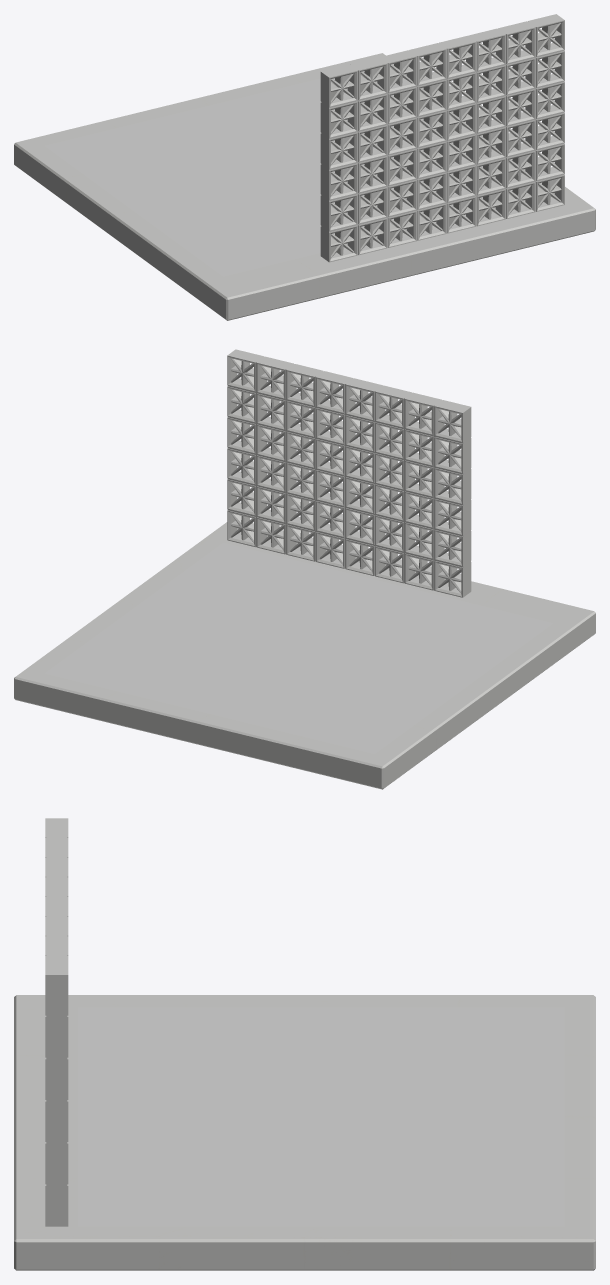
Rendered from PlatformLargeOscY.fbx.
The picture shows the model from 3 angles, top to bottom: view 1: azimuth 30°, elevation 25°; view 2: azimuth 150°, elevation 25°; view 3: azimuth 270°, elevation 25°; orthographic projection. The views are drawn at different scales.
Visible parts, largest first — view 1: PlatformLargeOscY, BreezeBlocks; view 2: PlatformLargeOscY, BreezeBlocks; view 3: PlatformLargeOscY, BreezeBlocks.
Boxes of the visible parts, x1,y1,x2,y2 form: PlatformLargeOscY: (14,53,595,320); BreezeBlocks: (320,14,564,262); PlatformLargeOscY: (14,522,595,789); BreezeBlocks: (227,349,471,597); PlatformLargeOscY: (14,995,595,1270); BreezeBlocks: (45,818,68,1226).
Size of the model in its own units: 500 by 268 by 500.
